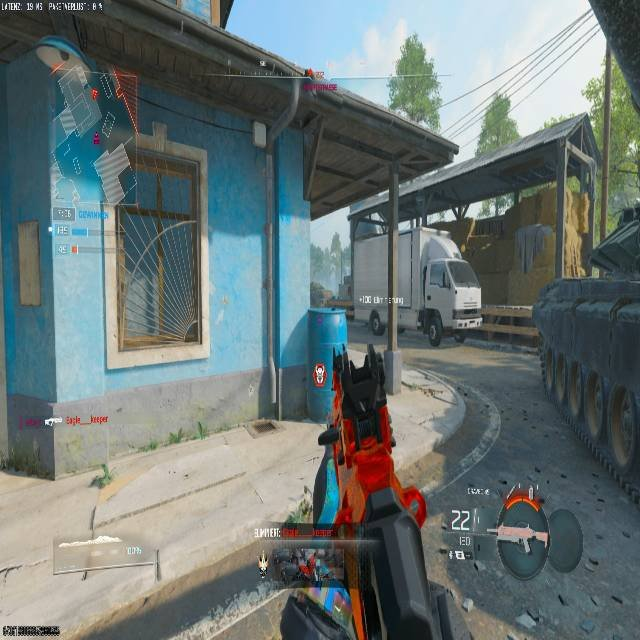player: (418, 305, 442, 347), (368, 309, 383, 334)
